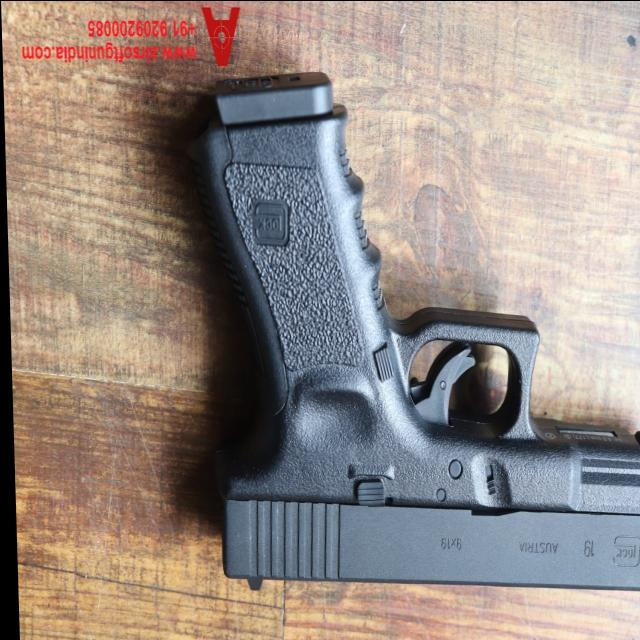handgun: (152, 57, 640, 616)
